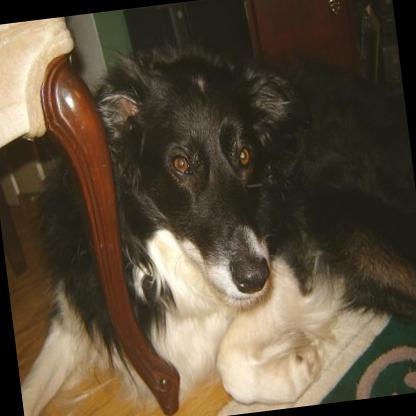Border_collie: (0, 12, 416, 416)
